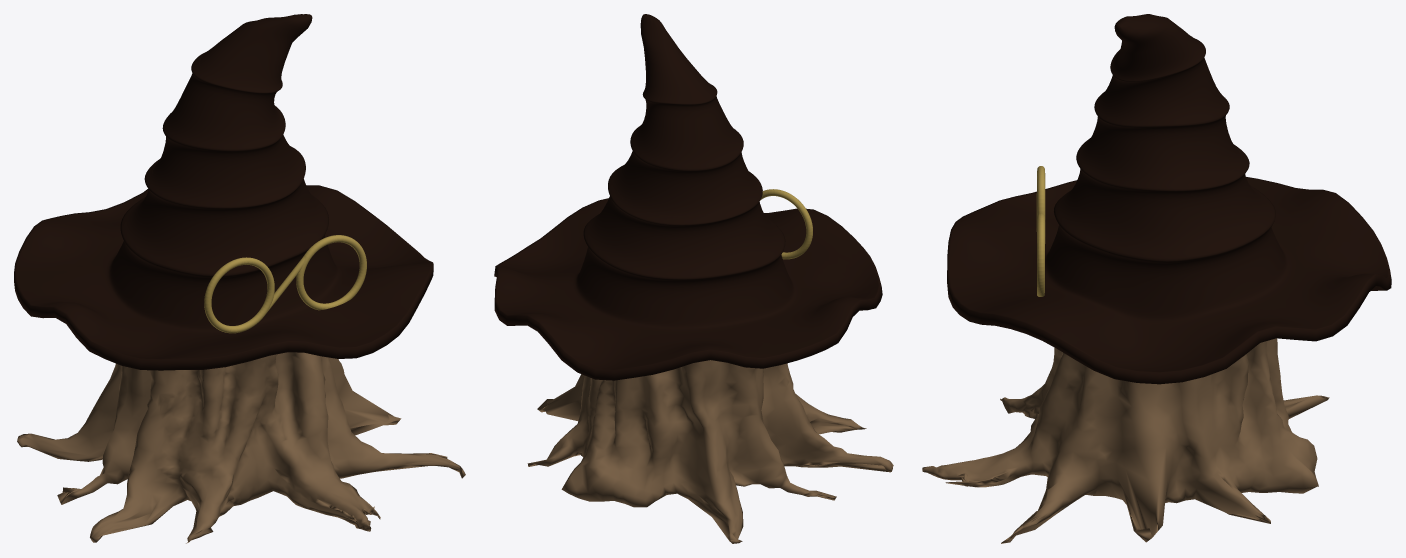
Rendered from elphaba_model_texture1.glb.
3 views of the same model, side by side, from view 1: azimuth 30°, elevation 25°; view 2: azimuth 150°, elevation 25°; view 3: azimuth 270°, elevation 25° (orthographic). The views are drawn at different scales.
Visible parts, largest first — view 1: Cone.001, Cylinder, Torus.002; view 2: Cone.001, Cylinder, Torus.002; view 3: Cone.001, Cylinder, Torus.002.
Boxes of the visible parts, x1,y1,x2,y2 form: Cone.001: [14, 14, 433, 370]; Cylinder: [17, 352, 465, 543]; Torus.002: [204, 235, 366, 333]; Cone.001: [494, 14, 882, 380]; Cylinder: [527, 360, 893, 543]; Torus.002: [760, 189, 812, 259]; Cone.001: [947, 14, 1391, 384]; Cylinder: [922, 338, 1329, 543]; Torus.002: [1036, 166, 1045, 296].
Size of the model in its own units: 51.3 by 61.16 by 54.36.
